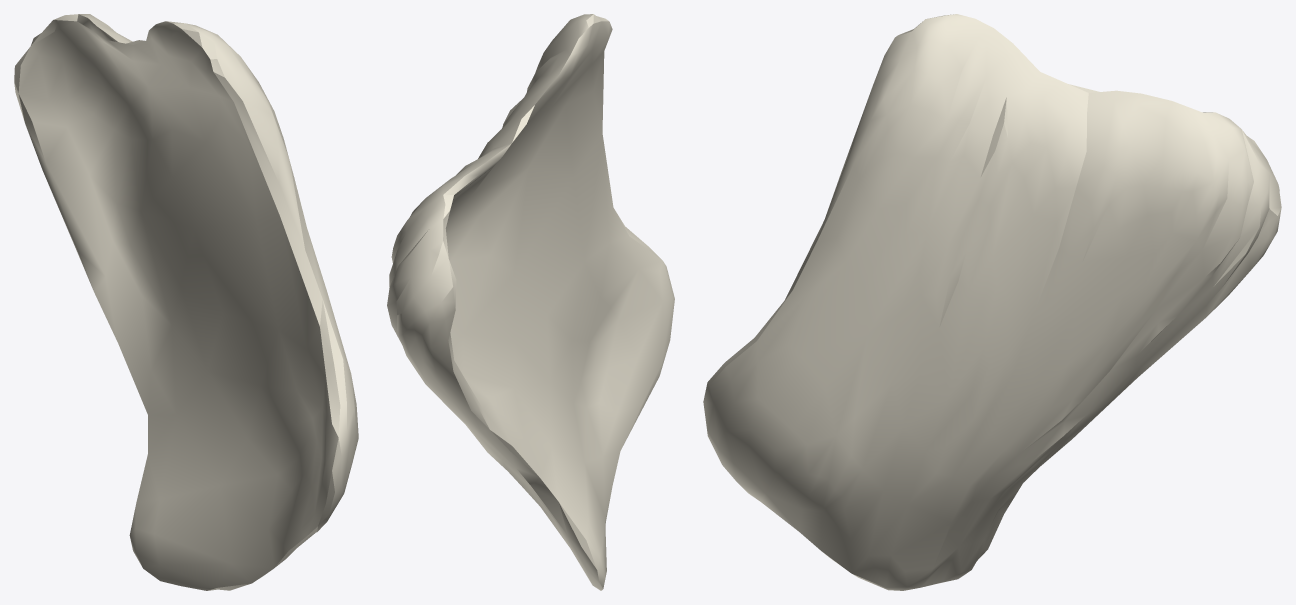
File: fma326802-l_mm1489.glb
3 views of the same model, side by side, from view 1: azimuth 30°, elevation 25°; view 2: azimuth 150°, elevation 25°; view 3: azimuth 270°, elevation 25° (orthographic). The views are drawn at different scales.
Visible parts, largest first — view 1: FMA326802-L_MM1489; view 2: FMA326802-L_MM1489; view 3: FMA326802-L_MM1489.
Part boxes in pixels (x1,y1,x2,y2): FMA326802-L_MM1489: [14, 14, 358, 590]; FMA326802-L_MM1489: [387, 14, 674, 590]; FMA326802-L_MM1489: [703, 14, 1281, 590].
Size of the model in its own units: 0.00359 by 0.0155 by 0.0142.
